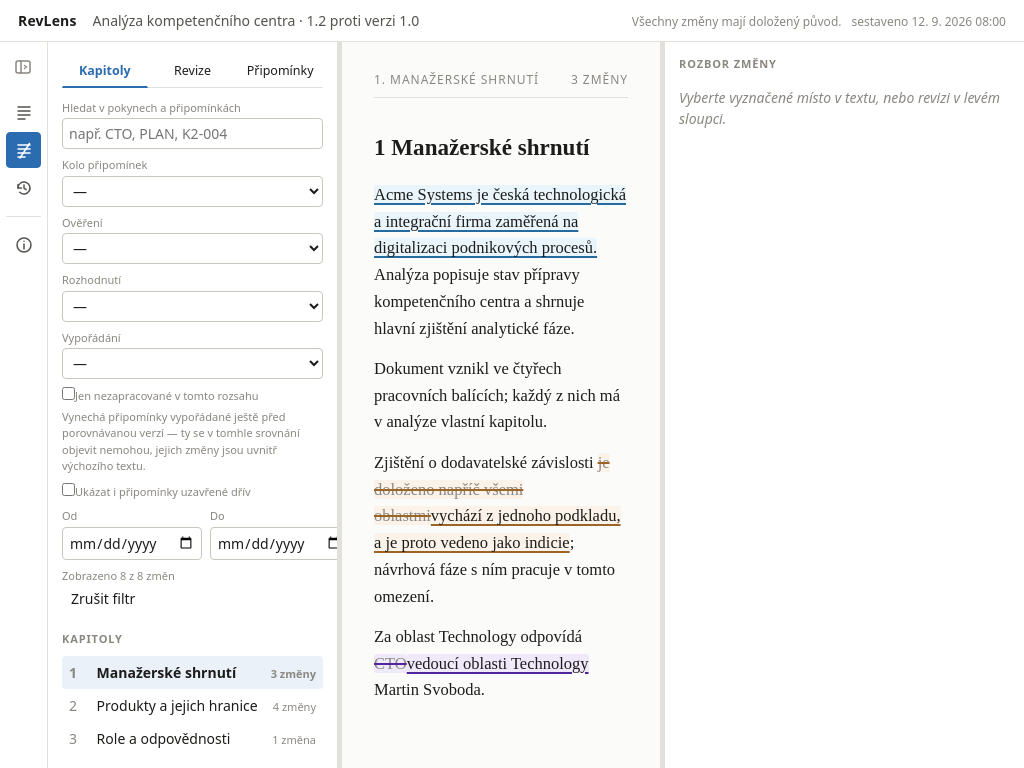
Test: the about page › lists the gate values this document actually uses
Check: the element showing "1 Manažerské shrnutí" is shown, box top-left (374, 134), bottom-right (590, 160)
Click the button named "O nástroji". click: x=24, y=245
box: top-left (6, 227), bottom-right (41, 263)
(page scrolled)
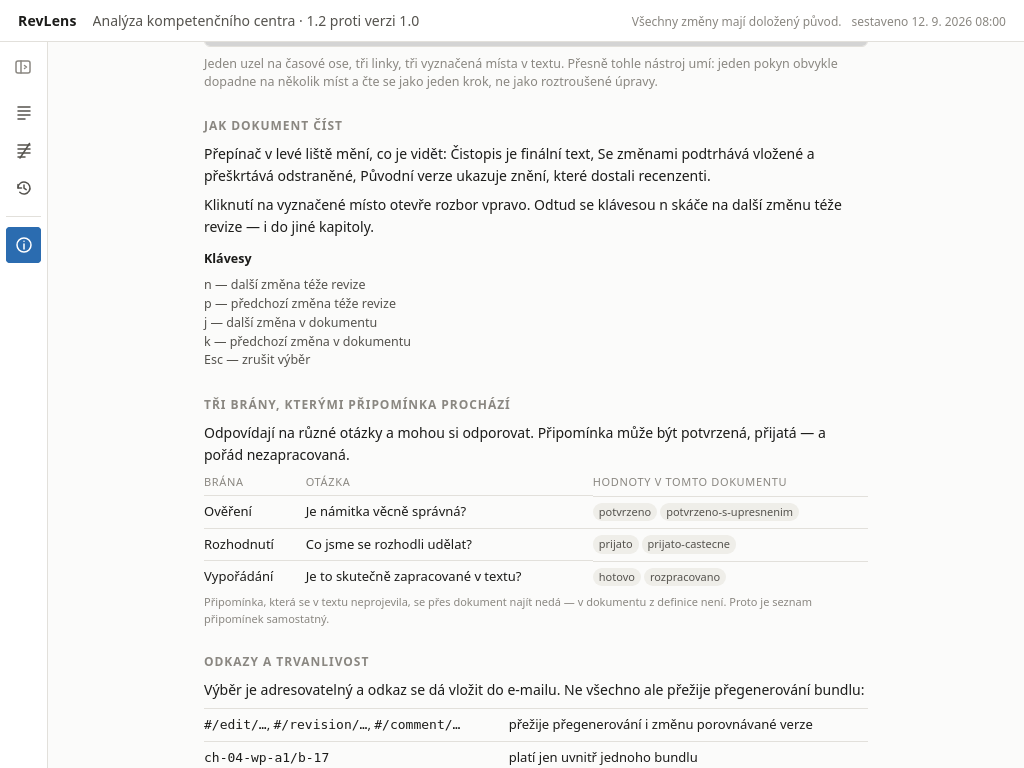
Check: the heading "Tři brány, kterými připomínka prochází" is shown, box top-left (204, 396), bottom-right (511, 413)
